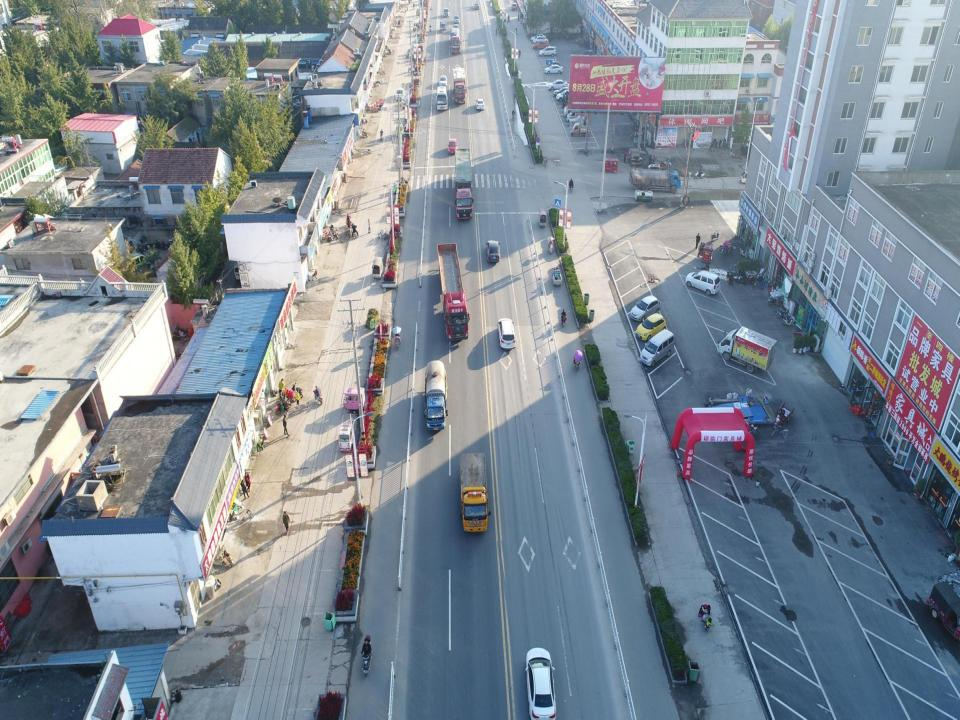bus: (436, 84, 448, 110)
car: (524, 646, 558, 720), (638, 328, 676, 366), (685, 269, 721, 297), (635, 312, 667, 340), (630, 294, 661, 322), (496, 316, 517, 352), (562, 96, 587, 117), (738, 141, 762, 160), (563, 100, 588, 118), (485, 239, 501, 263), (567, 105, 588, 123), (546, 77, 570, 90), (556, 89, 578, 103), (552, 85, 574, 97), (544, 64, 564, 76), (538, 44, 556, 57), (446, 138, 459, 155), (532, 40, 550, 50), (474, 98, 486, 112), (395, 87, 405, 102), (532, 36, 550, 44), (530, 32, 546, 40), (438, 75, 447, 87), (510, 2, 518, 12), (453, 14, 460, 24), (473, 2, 480, 11), (444, 8, 450, 18), (453, 22, 459, 30)
truck: (434, 238, 474, 343), (460, 451, 492, 534), (452, 146, 476, 222), (452, 66, 468, 105), (450, 26, 462, 55)
